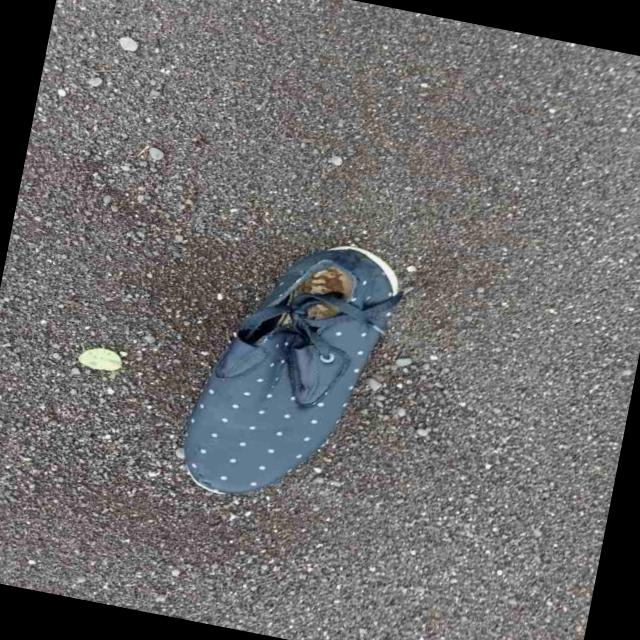dep: (184, 245, 402, 494)
